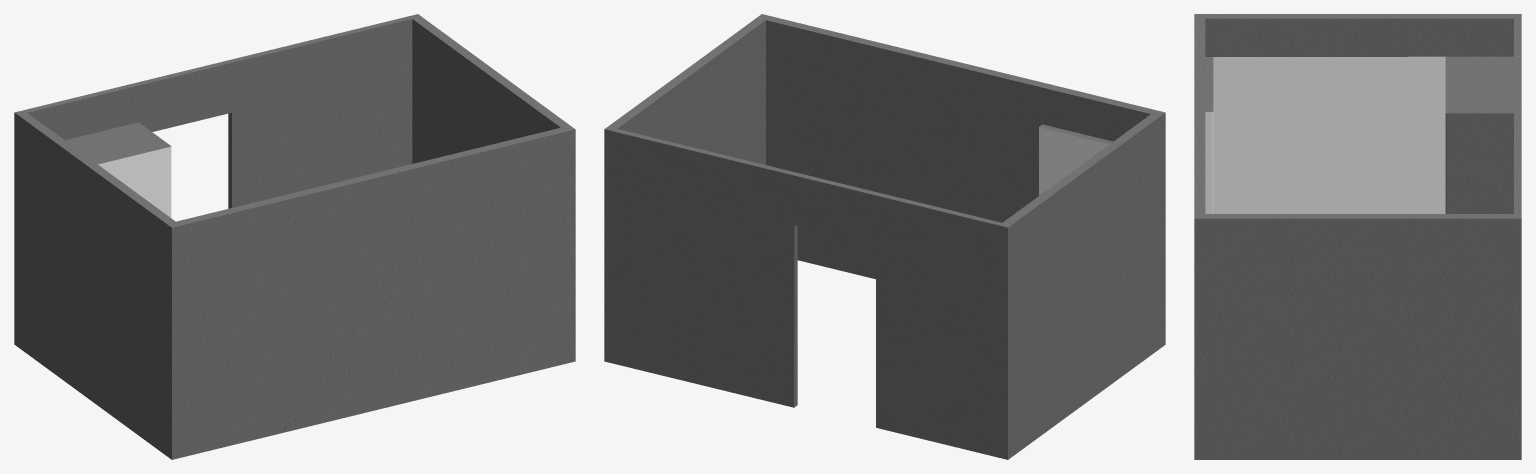
The model's file is Walls_f80d66e1.obj.
The picture shows the model from 3 angles, left to right: view 1: azimuth 30°, elevation 25°; view 2: azimuth 150°, elevation 25°; view 3: azimuth 270°, elevation 25°; orthographic projection. The views are drawn at different scales.
Parts seen in each view (by area): view 1: Walls_f80d66e1; view 2: Walls_f80d66e1; view 3: Walls_f80d66e1.
Boxes of the visible parts, x1=… form: Walls_f80d66e1: x1=14, y1=14, x2=575, y2=459; Walls_f80d66e1: x1=604, y1=14, x2=1165, y2=459; Walls_f80d66e1: x1=1194, y1=14, x2=1521, y2=459.
Size of the model in its own units: 4.24 by 2.33 by 2.87.
